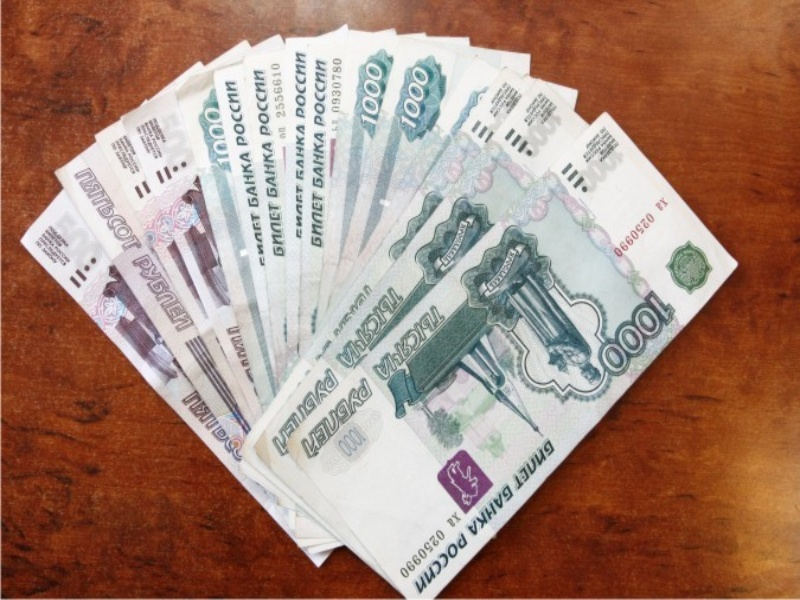cash: (21, 27, 740, 600)
